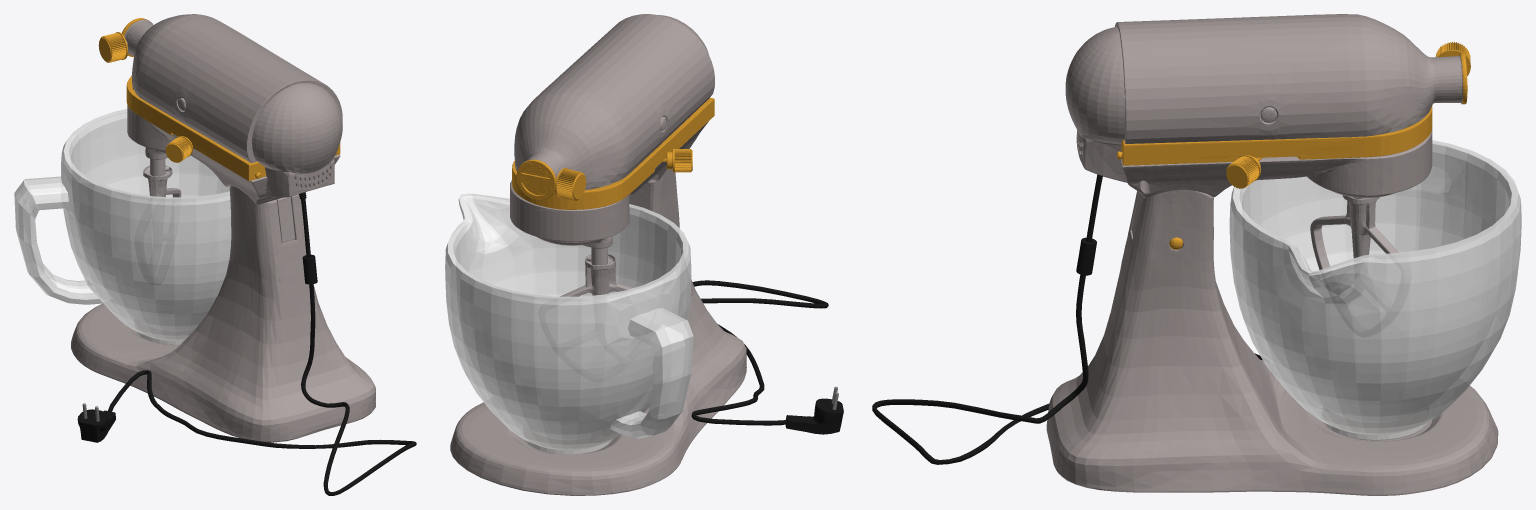
File: mixer-01.glb
3 renders of one model, left to right at view 1: azimuth 30°, elevation 25°; view 2: azimuth 150°, elevation 25°; view 3: azimuth 270°, elevation 25°, orthographic. The views are drawn at different scales.
Visible parts, largest first — view 1: 867974e4-05f3-4f7f-a31c-47493b81b3a7, 1623f62c-b5a9-4a9f-a10b-ec4276eb5266, 25e489c0-052f-4288-a046-dfd6ecfc38c9; view 2: 1623f62c-b5a9-4a9f-a10b-ec4276eb5266, 867974e4-05f3-4f7f-a31c-47493b81b3a7, 25e489c0-052f-4288-a046-dfd6ecfc38c9; view 3: 867974e4-05f3-4f7f-a31c-47493b81b3a7, 1623f62c-b5a9-4a9f-a10b-ec4276eb5266, 25e489c0-052f-4288-a046-dfd6ecfc38c9.
Boxes of the visible parts, x1,y1,x2,y2 form: 867974e4-05f3-4f7f-a31c-47493b81b3a7: (71,14,375,442); 1623f62c-b5a9-4a9f-a10b-ec4276eb5266: (14,18,416,495); 25e489c0-052f-4288-a046-dfd6ecfc38c9: (143,159,181,197); 1623f62c-b5a9-4a9f-a10b-ec4276eb5266: (445,97,843,454); 867974e4-05f3-4f7f-a31c-47493b81b3a7: (450,14,746,495); 25e489c0-052f-4288-a046-dfd6ecfc38c9: (560,247,633,296); 867974e4-05f3-4f7f-a31c-47493b81b3a7: (1046,14,1498,495); 1623f62c-b5a9-4a9f-a10b-ec4276eb5266: (872,42,1521,464); 25e489c0-052f-4288-a046-dfd6ecfc38c9: (1310,195,1398,269).
Bounding box in the file's own units: 0.124 × 0.1288 × 0.1817.
